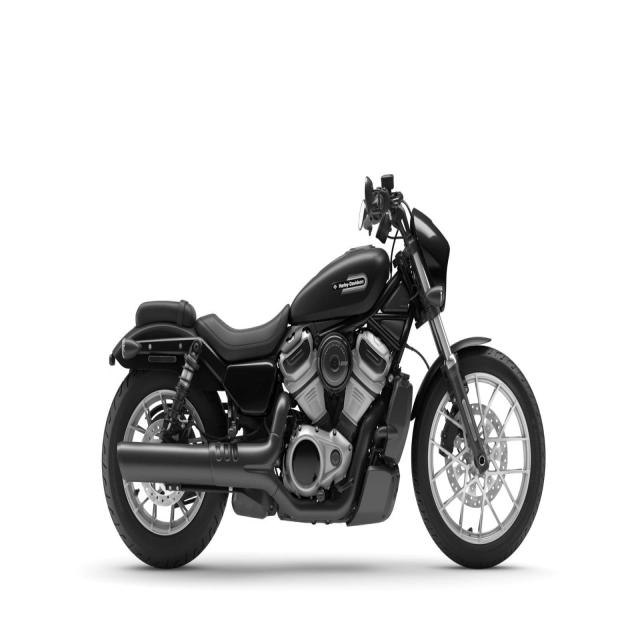Motorcycle: (102, 174, 546, 568)
